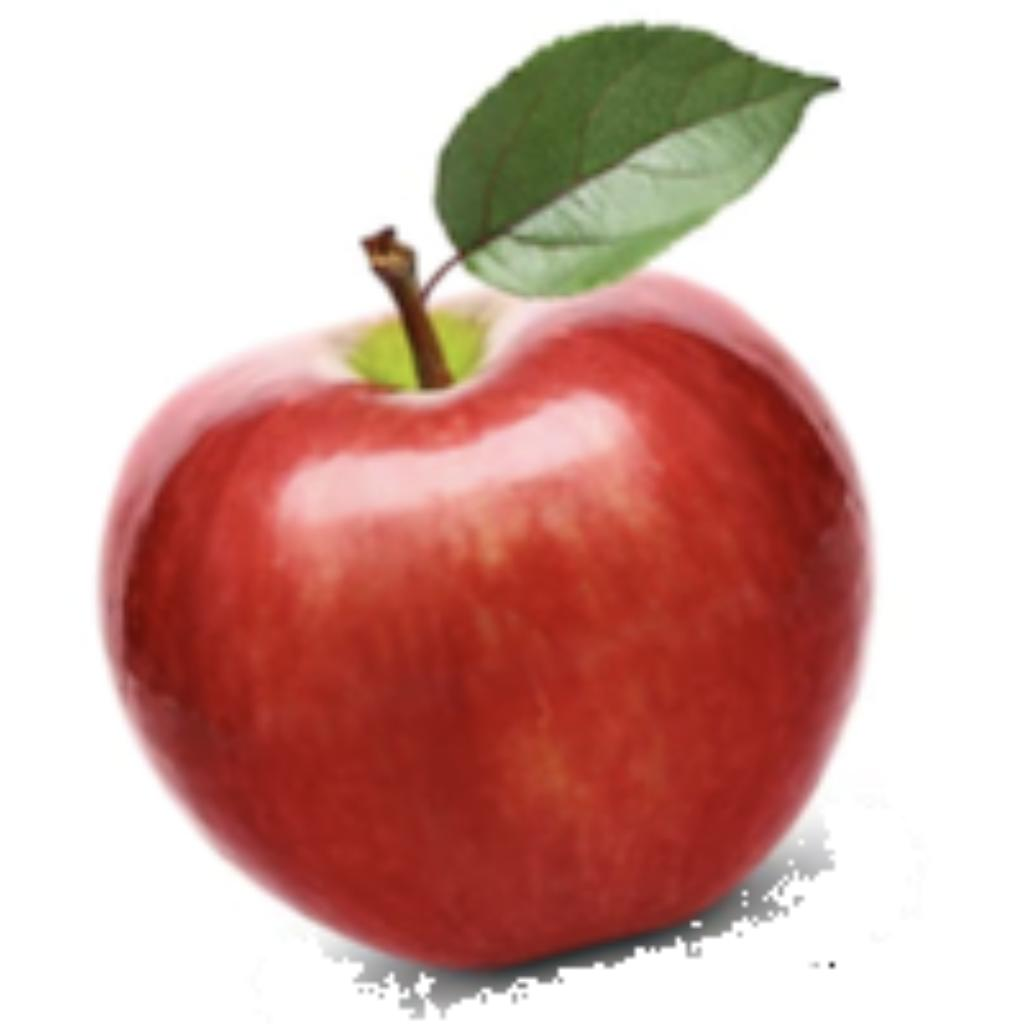apple: (87, 11, 881, 1019)
